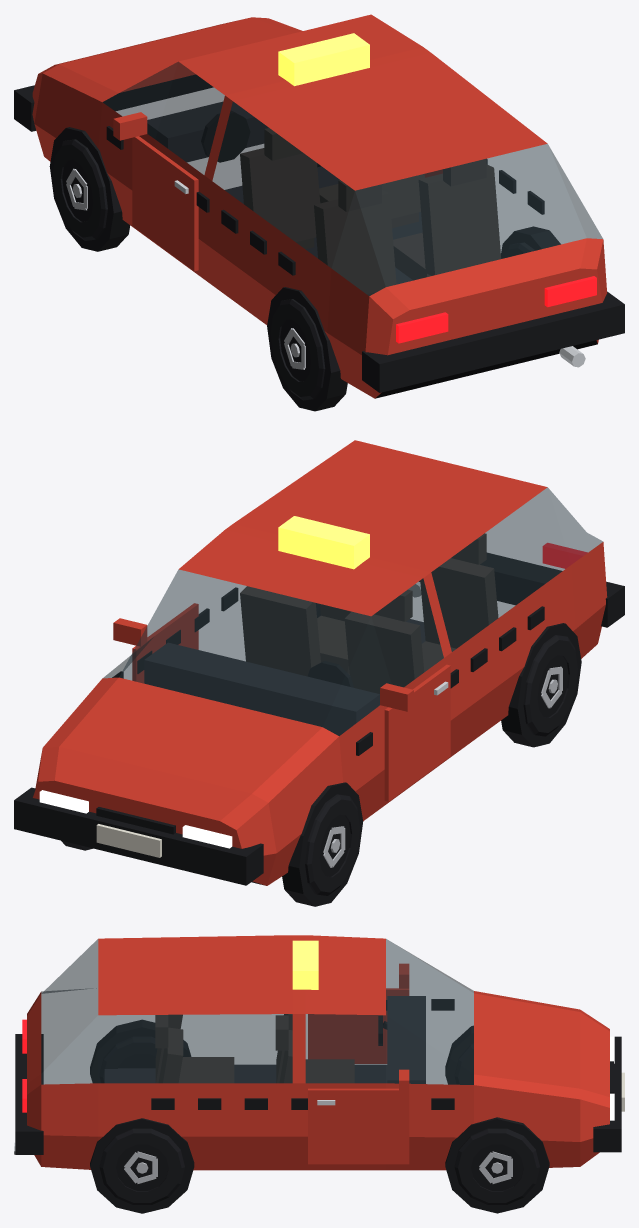
The model's file is taxi.glb.
3 renders of one model, top to bottom at view 1: azimuth 30°, elevation 25°; view 2: azimuth 150°, elevation 25°; view 3: azimuth 270°, elevation 25°, orthographic. The views are drawn at different scales.
Parts seen in each view (by area): view 1: taxi, taxi_door_fl, taxi_wheel_fl, taxi_wheel_rl; view 2: taxi, taxi_door_fl, taxi_wheel_fl, taxi_wheel_rl, taxi_door_fr; view 3: taxi, taxi_door_fr, taxi_wheel_fr, taxi_wheel_rr, taxi_door_fl, taxi_wheel_rl, taxi_wheel_fl.
Boxes of the visible parts, <box> form: taxi: <box>14,14,624,411</box>; taxi_door_fl: <box>132,136,198,271</box>; taxi_wheel_fl: <box>53,139,107,240</box>; taxi_wheel_rl: <box>270,299,325,400</box>; taxi: <box>14,440,624,906</box>; taxi_door_fl: <box>384,664,450,801</box>; taxi_wheel_fl: <box>305,794,359,895</box>; taxi_wheel_rl: <box>523,635,577,736</box>; taxi_door_fr: <box>132,603,198,683</box>; taxi: <box>14,935,624,1213</box>; taxi_door_fr: <box>308,1088,409,1164</box>; taxi_wheel_fr: <box>454,1128,539,1204</box>; taxi_wheel_rr: <box>99,1128,184,1204</box>; taxi_door_fl: <box>308,988,409,1063</box>; taxi_wheel_rl: <box>99,1036,156,1083</box>; taxi_wheel_fl: <box>454,1043,473,1084</box>.
Size of the model in its own units: 2.14 by 1.77 by 4.71.
